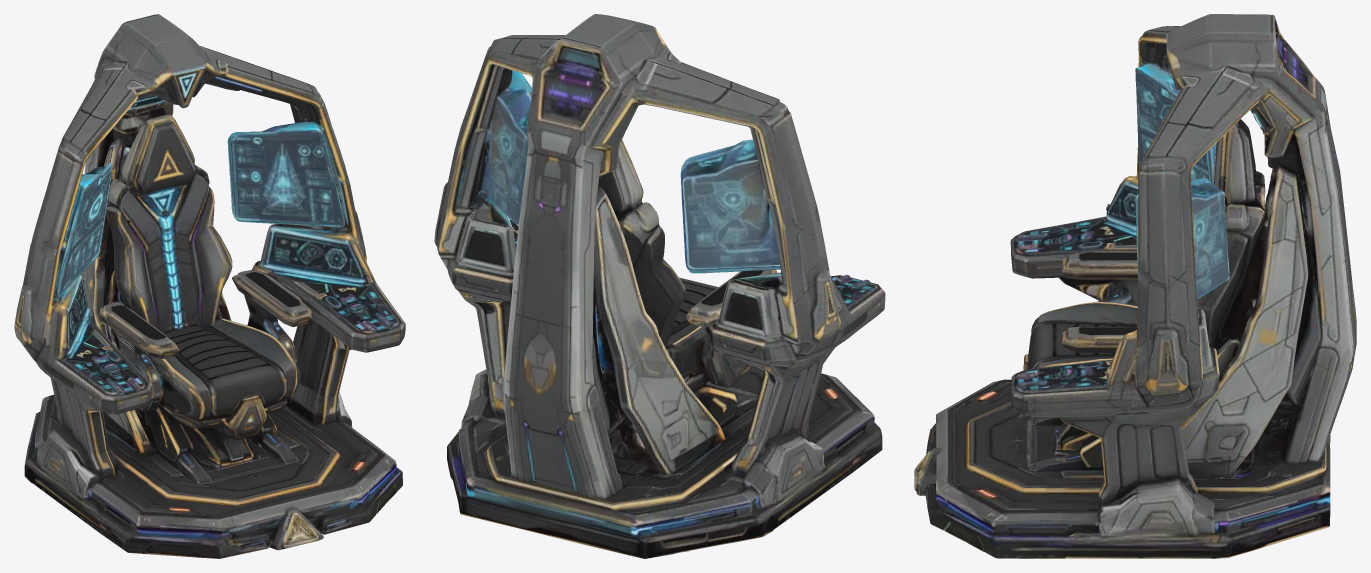
The model's file is eoncity_creator_command_static.468d2c777b6f.glb.
3 renders of one model, left to right at view 1: azimuth 30°, elevation 25°; view 2: azimuth 150°, elevation 25°; view 3: azimuth 270°, elevation 25°, orthographic. The views are drawn at different scales.
Parts seen in each view (by area): view 1: Mesh1.0; view 2: Mesh1.0; view 3: Mesh1.0.
Boxes of the visible parts, left/top/right/bottom form: Mesh1.0: left=14, top=14, right=405, bottom=558; Mesh1.0: left=434, top=14, right=885, bottom=558; Mesh1.0: left=914, top=14, right=1356, bottom=558.
Bounding box in the file's own units: 1.66 × 1.9 × 1.65.
1 material, 1 textured.
